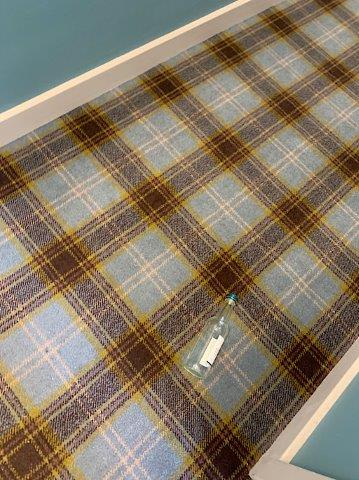botolkaca: (185, 293, 238, 378)
